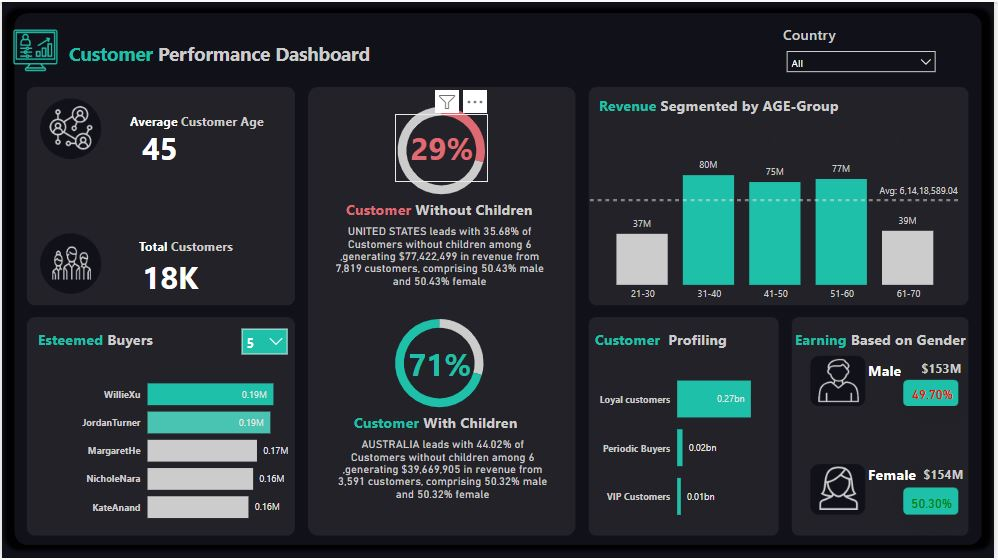

This screenshot's page, from the dashboard's own definition file:
{"tool":"powerbi","page":{"name":"Dark","canvas":[1280,720],"ordinal":1},"visuals":[{"type":"clusteredColumnChart","fields":{"Category":["DimCustomer.Age Category"],"Y":["DAX Calculations.Total Revenue","DAX Calculations.Total Revenue"]},"box":[754.1,187.8,489.8,206.6],"z":0},{"type":"card","fields":{"Values":["DAX Calculations.Avg Caption"]},"box":[742.6,134.4,452.2,70.8],"z":1000},{"type":"textbox","box":[765.7,115.6,327.9,39],"z":2000},{"type":"donutChart","fields":{"Y":["DAX Calculations.% C without children","DAX Calculations.% CWC"]},"box":[470.4,116.1,191.7,150.9],"z":3000},{"type":"donutChart","fields":{"Y":["DAX Calculations.% C without children","DAX Calculations.% CWC"]},"box":[468.1,389.1,191.7,152.5],"z":4000},{"type":"card","fields":{"Values":["DAX Calculations.% C without children"]},"box":[506.7,144.7,120.8,87.5],"z":5000},{"type":"card","fields":{"Values":["DAX Calculations.% CWC"]},"box":[504.3,426.8,120.8,78.5],"z":6000},{"type":"textbox","box":[438.7,250.6,327.5,39.2],"z":7000},{"type":"textbox","box":[449.2,524.7,240,40.8],"z":8000},{"type":"card","fields":{"Values":["DAX Calculations.Caption Customer without Children"]},"box":[414.6,262.7,304.9,131.3],"z":9000},{"type":"card","fields":{"Values":["DAX Calculations.Caption Customer with Children"]},"box":[417.5,538.3,304.9,131.3],"z":10000},{"type":"barChart","fields":{"Category":["DimCustomer.Customer Type"],"Y":["DAX Calculations.Total Revenue"]},"box":[765.7,450.7,241.3,244.2],"z":11000},{"type":"slicer","fields":{"Values":["Dynamic Customers.Dynamic Customers"]},"box":[299.4,411.6,78.7,52.9],"z":12000},{"type":"card","fields":{"Values":["DAX Calculations.% Male"]},"box":[1157.2,479.6,86.7,54.9],"z":13000},{"type":"card","fields":{"Values":["DAX Calculations.% Female"]},"box":[1155.8,616.9,86.7,60.7],"z":14000},{"type":"card","fields":{"Values":["DAX Calculations.Average Customer Age"]},"box":[145.9,148.8,115.6,78],"z":15000},{"type":"card","fields":{"Values":["DAX Calculations.#Customers"]},"box":[160.4,314.9,114.1,79.5],"z":16000},{"type":"textbox","box":[160.4,138.7,190.7,66.5],"z":17000},{"type":"textbox","box":[171.9,299.1,148.8,60.7],"z":18000},{"type":"textbox","box":[1112.4,592.3,88.1,49.1],"z":19000},{"type":"textbox","box":[1112.4,458,88.1,49.1],"z":20000},{"type":"barChart","fields":{"Y":["DAX Calculations.Dynamic Customers"],"Category":["DimCustomer.Full Name"]},"box":[96.8,464.5,281.3,221.9],"z":21000},{"type":"textbox","box":[41.3,418.1,237.4,40],"z":22000},{"type":"card","fields":{"Values":["DAX Calculations.Title Top Customers"]},"box":[41.9,450.7,236.9,39],"z":23000},{"type":"textbox","box":[1018.5,417.5,248.5,40.5],"z":24000},{"type":"card","fields":{"Values":["DAX Calculations.Male Revenue"]},"box":[1158.6,455.1,106.9,39],"z":25000},{"type":"card","fields":{"Values":["DAX Calculations.FEmale Revenue"]},"box":[1161.5,592.3,106.9,39],"z":26000},{"type":"textbox","box":[759.9,417.5,239.8,40.5],"z":27000},{"type":"slicer","title":"Country","fields":{"Values":["DimGeography.Country"]},"box":[1002.6,28.9,212.4,70.8],"z":28000},{"type":"textbox","box":[80.9,44.8,426.2,54.9],"z":29000},{"type":"image","box":[5.8,28.9,75.1,67.9],"z":29001}]}

Visuals, with their boxes in screenshot pixels (x1, y1, x2, y2), scaled from the page's 1280x720 canvas onto the 998x560 screenshot:
clusteredColumnChart - DimCustomer.Age Category x DAX Calculations.Total Revenue: crop(588, 146, 970, 307)
card - DAX Calculations.Avg Caption: crop(579, 105, 932, 160)
textbox: crop(597, 90, 853, 120)
donutChart - DAX Calculations.% C without children x DAX Calculations.% CWC: crop(367, 90, 516, 208)
donutChart - DAX Calculations.% C without children x DAX Calculations.% CWC: crop(365, 303, 514, 421)
card - DAX Calculations.% C without children: crop(395, 113, 489, 181)
card - DAX Calculations.% CWC: crop(393, 332, 487, 393)
textbox: crop(342, 195, 597, 225)
textbox: crop(350, 408, 537, 440)
card - DAX Calculations.Caption Customer without Children: crop(323, 204, 561, 306)
card - DAX Calculations.Caption Customer with Children: crop(326, 419, 563, 521)
barChart - DimCustomer.Customer Type x DAX Calculations.Total Revenue: crop(597, 351, 785, 540)
slicer - Dynamic Customers.Dynamic Customers: crop(233, 320, 295, 361)
card - DAX Calculations.% Male: crop(902, 373, 970, 416)
card - DAX Calculations.% Female: crop(901, 480, 969, 527)
card - DAX Calculations.Average Customer Age: crop(114, 116, 204, 176)
card - DAX Calculations.#Customers: crop(125, 245, 214, 307)
textbox: crop(125, 108, 274, 160)
textbox: crop(134, 233, 250, 280)
textbox: crop(867, 461, 936, 499)
textbox: crop(867, 356, 936, 394)
barChart - DAX Calculations.Dynamic Customers x DimCustomer.Full Name: crop(75, 361, 295, 534)
textbox: crop(32, 325, 217, 356)
card - DAX Calculations.Title Top Customers: crop(33, 351, 217, 381)
textbox: crop(794, 325, 988, 356)
card - DAX Calculations.Male Revenue: crop(903, 354, 987, 384)
card - DAX Calculations.FEmale Revenue: crop(906, 461, 989, 491)
textbox: crop(592, 325, 779, 356)
"Country" slicer: crop(782, 22, 947, 78)
textbox: crop(63, 35, 395, 78)
image: crop(5, 22, 63, 75)
